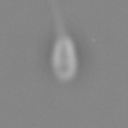normal: (46, 1, 72, 36)
